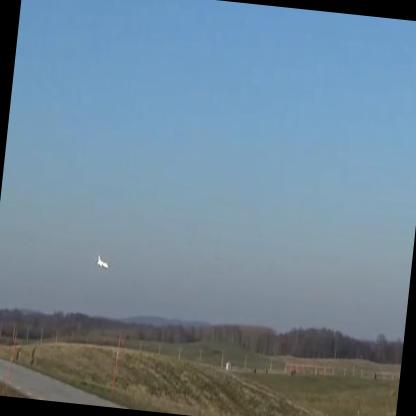plane: (95, 255, 111, 271)
